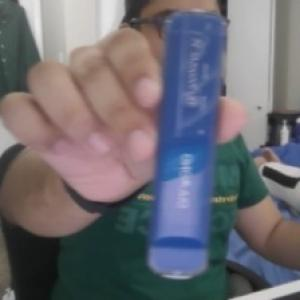Diamond-E-Ciggirate: (144, 7, 224, 282)
